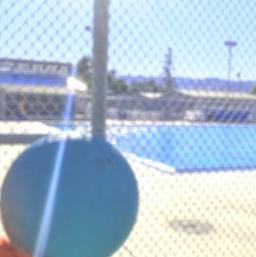algae: (0, 131, 139, 257)
